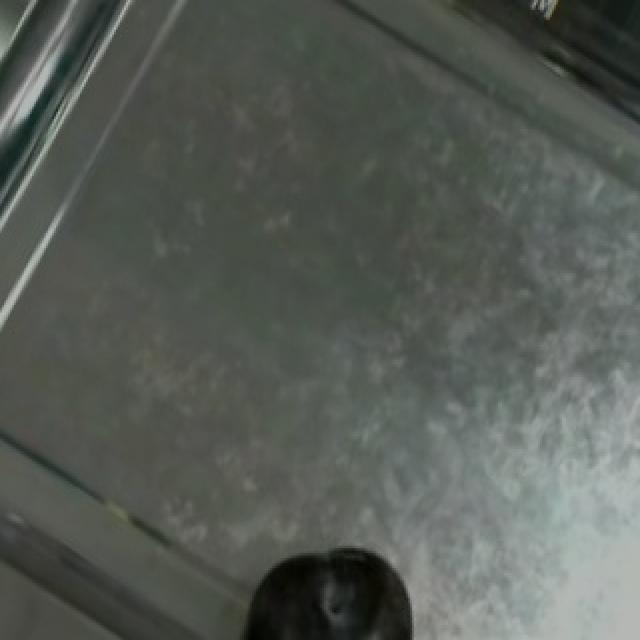Fruit: (222, 533, 432, 640)
